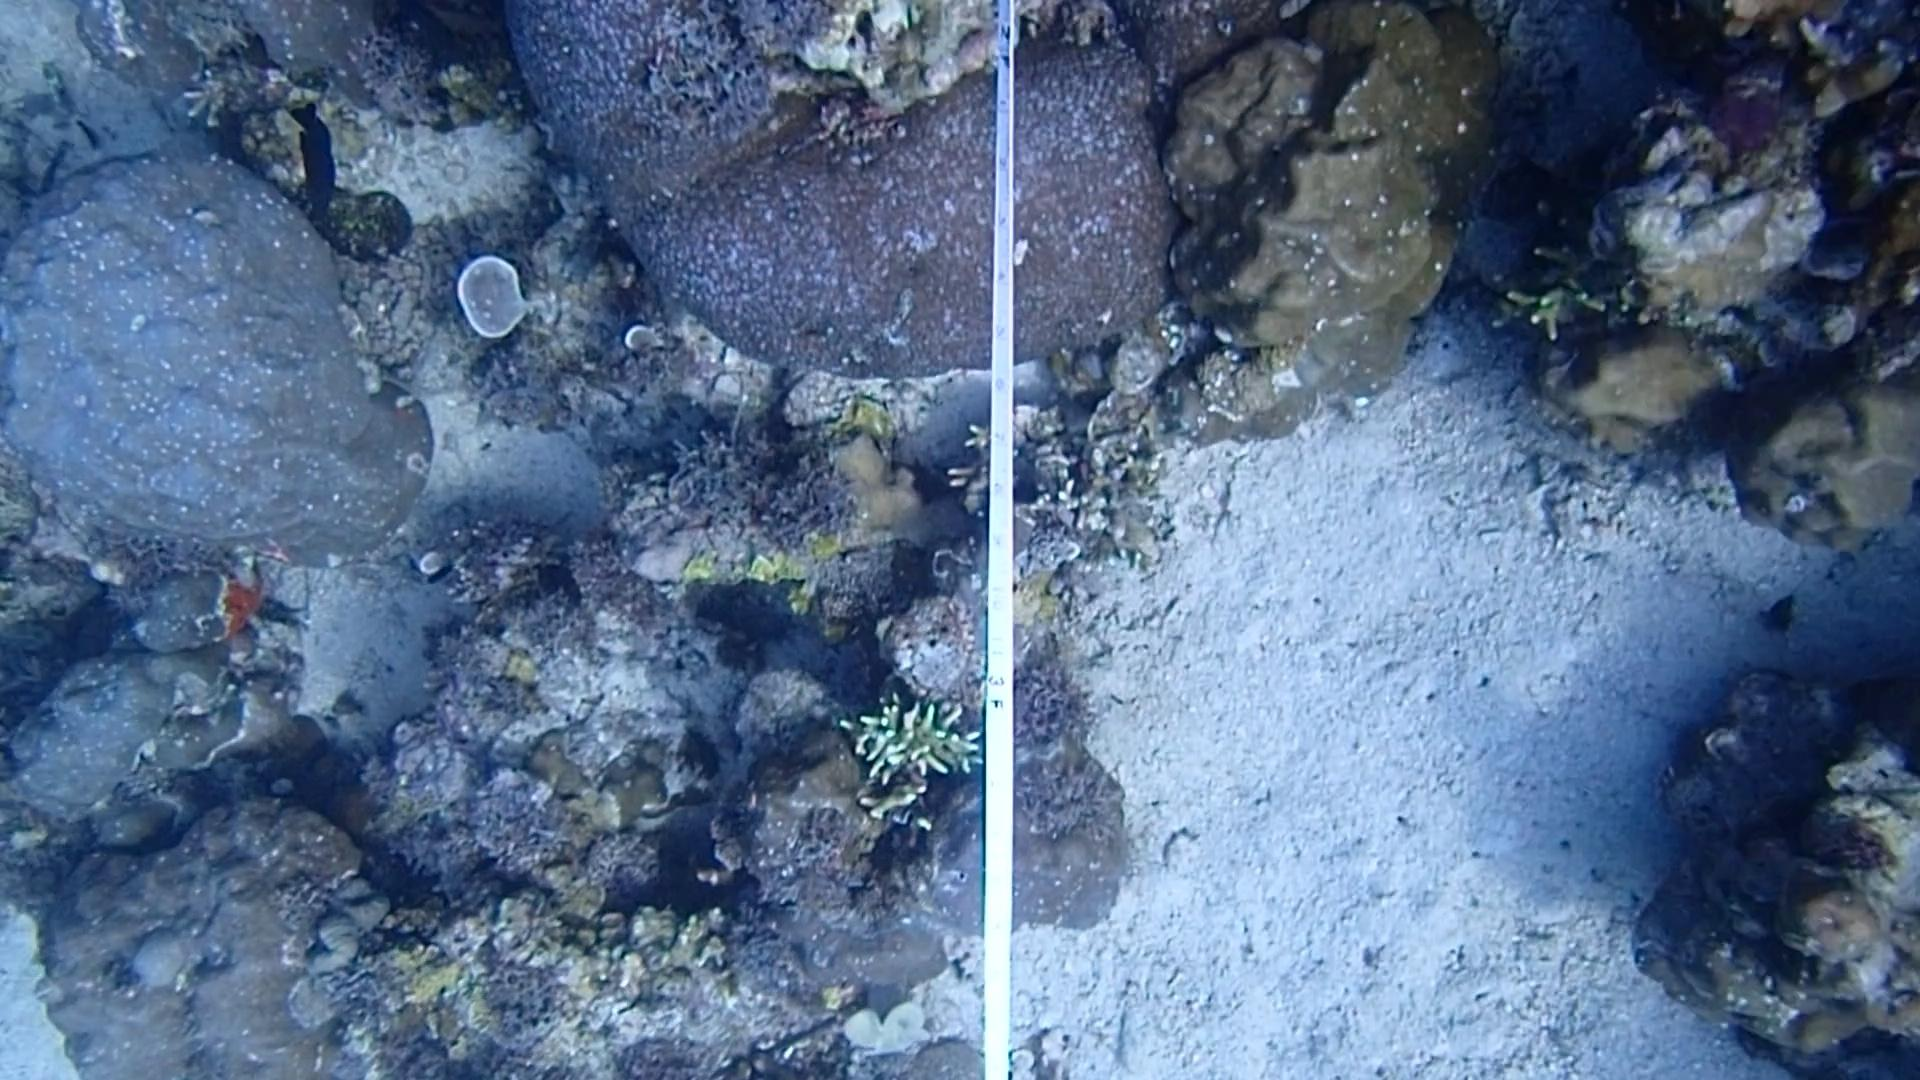Dark Fish: (291, 99, 344, 214)
